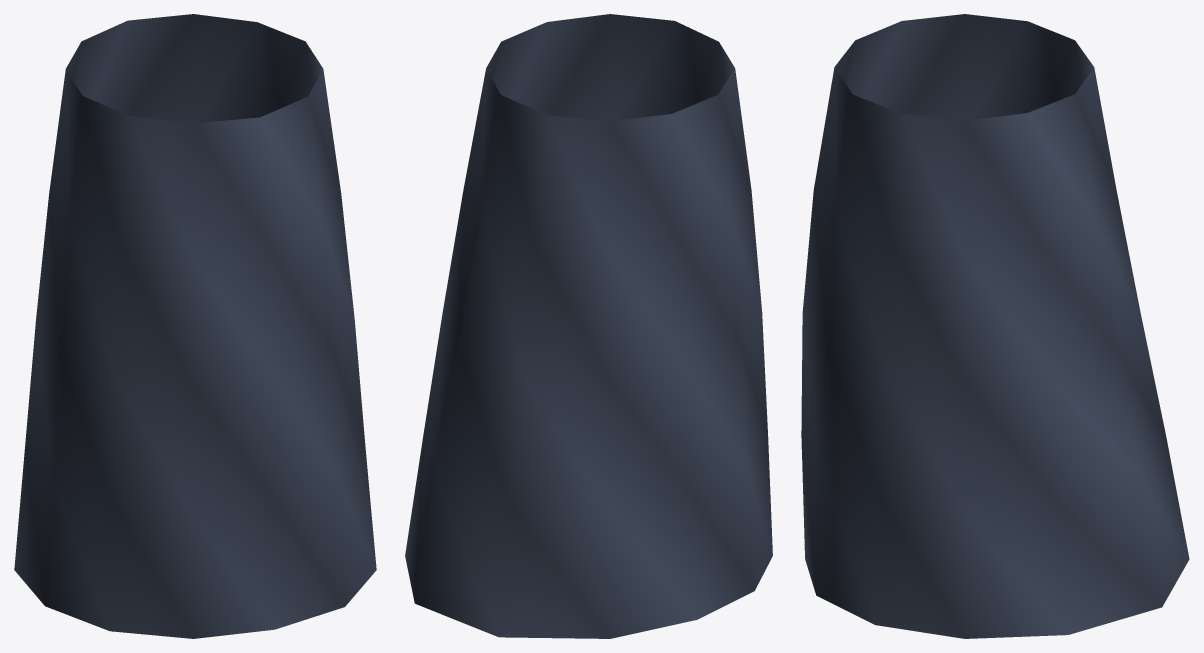
Rendered from lead_armor_cuisse.L.glb.
3 views of the same model, side by side, from view 1: azimuth 30°, elevation 25°; view 2: azimuth 150°, elevation 25°; view 3: azimuth 270°, elevation 25° (orthographic). The views are drawn at different scales.
Parts seen in each view (by area): view 1: lead_armor_cuisse.L; view 2: lead_armor_cuisse.L; view 3: lead_armor_cuisse.L.
Boxes of the visible parts, x1=… form: lead_armor_cuisse.L: x1=14, y1=14, x2=376, y2=638; lead_armor_cuisse.L: x1=405, y1=14, x2=772, y2=638; lead_armor_cuisse.L: x1=801, y1=14, x2=1189, y2=638.
Bounding box in the file's own units: 0.2432 × 0.37 × 0.2644.
